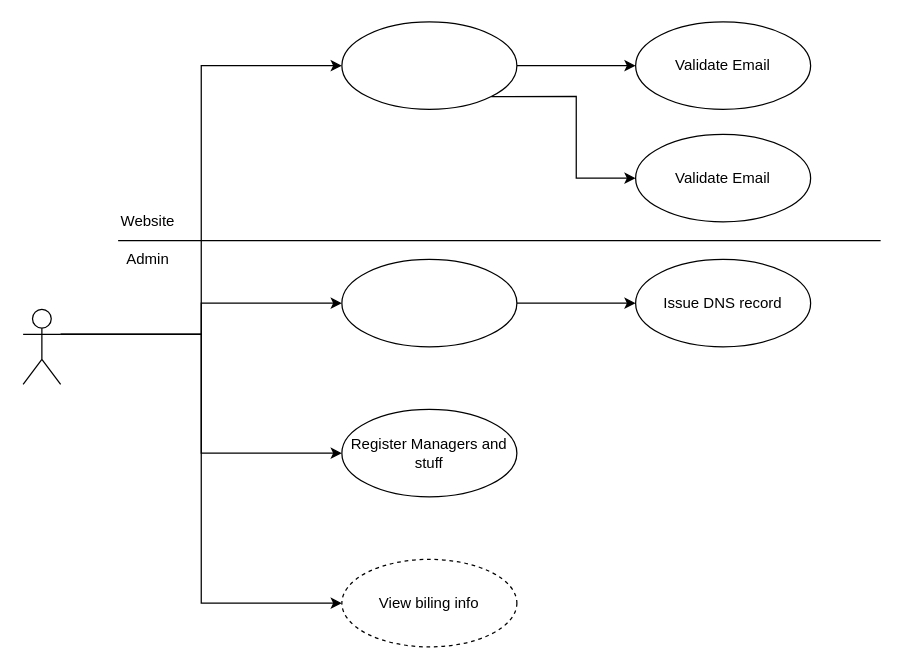
This 904x669 diagram has some shape labels left out. The shapes that lost their labels are listed below. From the top down, each one's centre as x and y in pixels, then its label:
[429,65]: Register to App
[429,302]: create Cafe
[41,346]: owner
